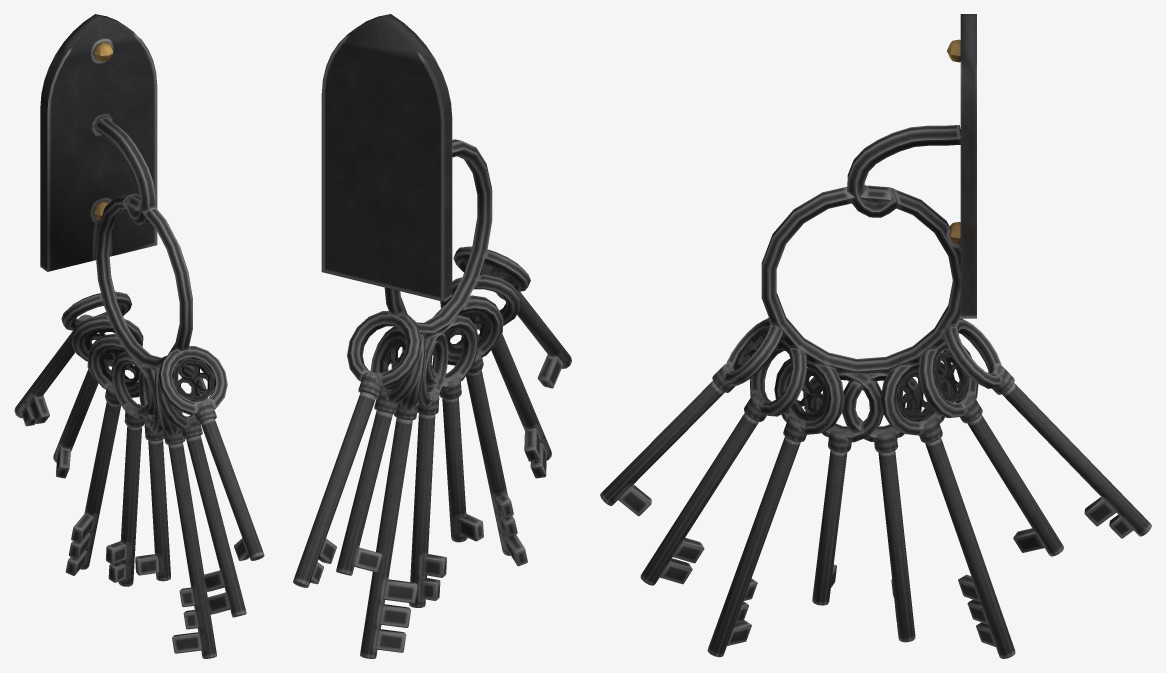
File: KeyRingHook.fbx
The picture shows the model from 3 angles, left to right: view 1: azimuth 30°, elevation 25°; view 2: azimuth 150°, elevation 25°; view 3: azimuth 270°, elevation 25°; orthographic projection. The views are drawn at different scales.
Parts seen in each view (by area): view 1: KeyRingHook; view 2: KeyRingHook; view 3: KeyRingHook.
Boxes of the visible parts, box(x1,y1,x2,y2) form: KeyRingHook: box(14, 14, 264, 658); KeyRingHook: box(293, 14, 571, 658); KeyRingHook: box(600, 14, 1151, 658).
Size of the model in its own units: 36 by 176 by 137.
